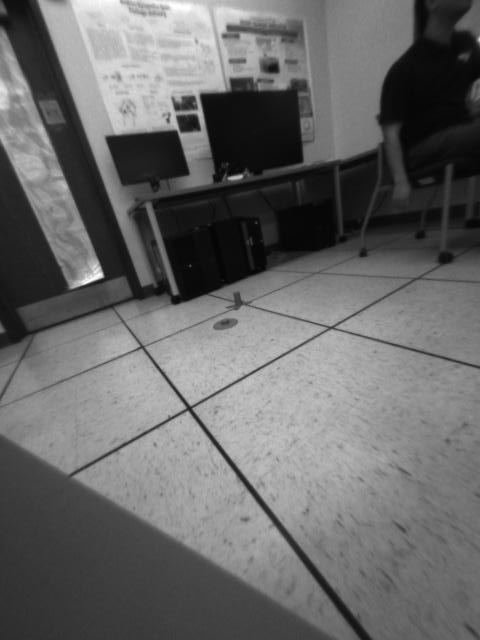X: (226, 291, 251, 311)
